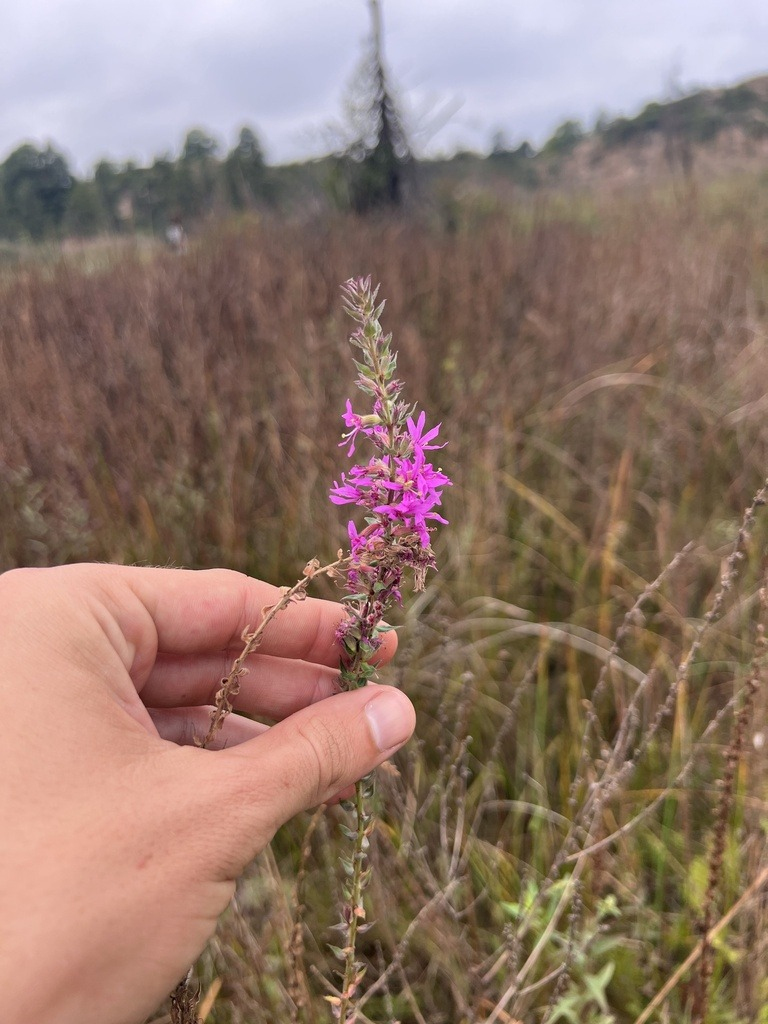purple loosestrife: (319, 272, 454, 1017)
